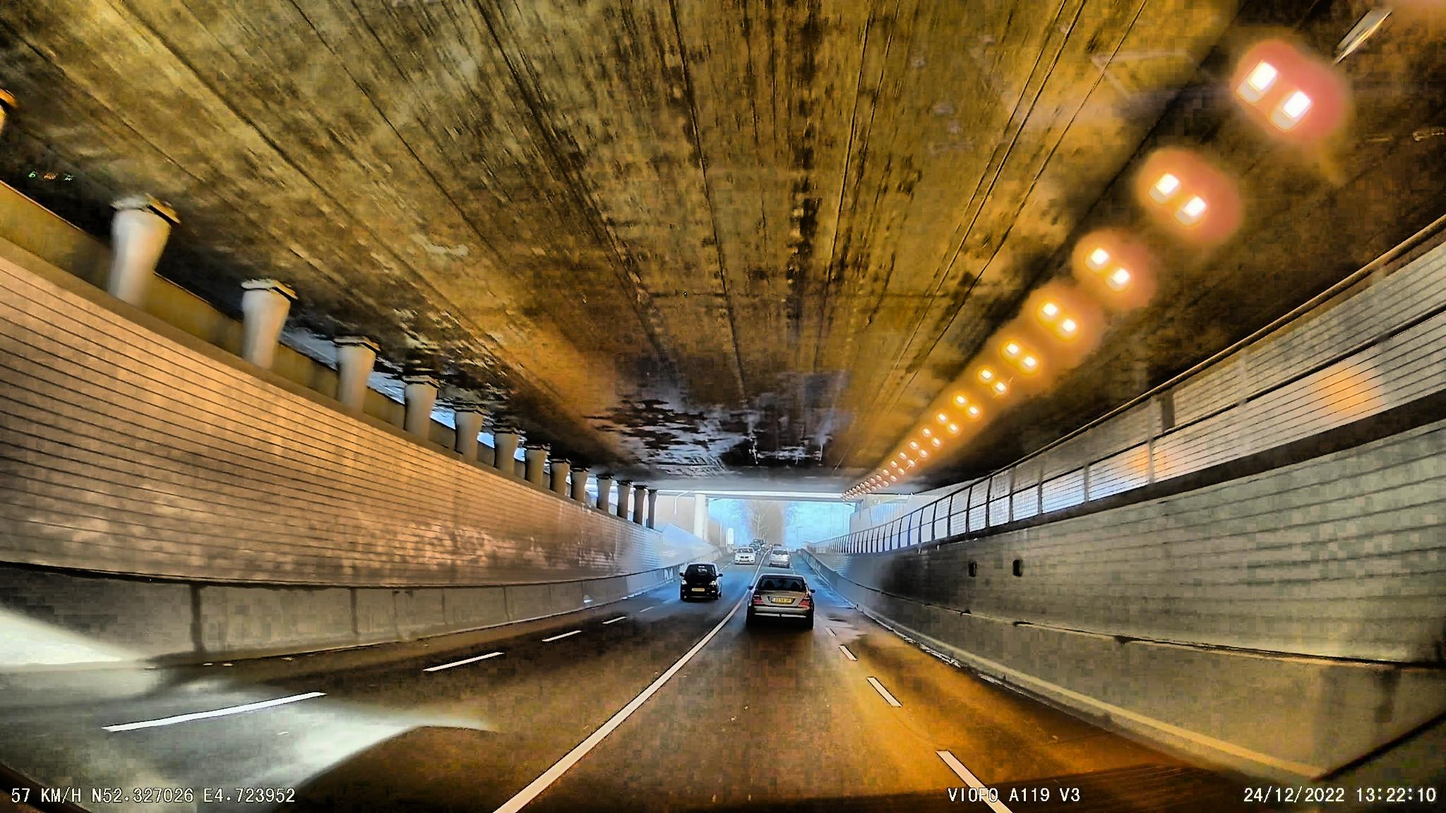Roads: (0, 568, 1265, 813)
